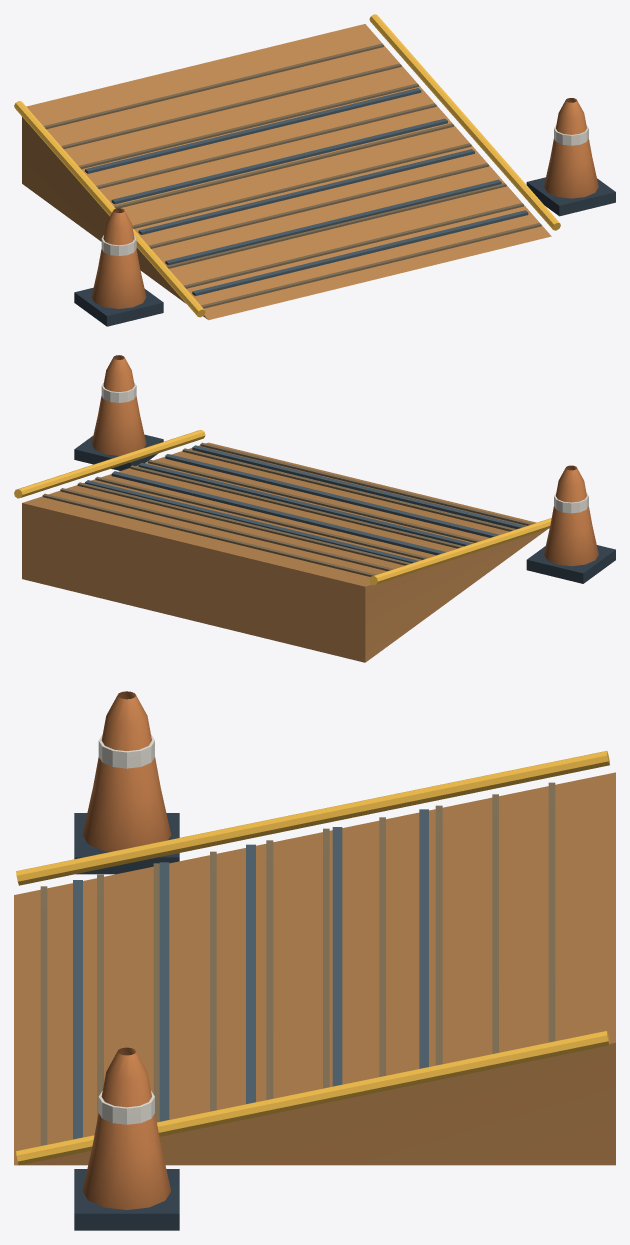
The model's file is access-temporary.glb.
The picture shows the model from 3 angles, top to bottom: view 1: azimuth 30°, elevation 25°; view 2: azimuth 150°, elevation 25°; view 3: azimuth 270°, elevation 25°; orthographic projection. The views are drawn at different scales.
Visible parts, largest first — view 1: ramp, wood board seam, non slip tread, safety cone, wheel edge guard, cone base, cone band; view 2: ramp, wood board seam, non slip tread, safety cone, wheel edge guard, cone base, cone band; view 3: ramp, wood board seam, wheel edge guard, safety cone, non slip tread, cone base, cone band.
Boxes of the visible parts, x1,y1,x2,y2 form: ramp: (22, 24, 551, 320); wood board seam: (43, 43, 541, 308); non slip tread: (85, 88, 528, 296); safety cone: (91, 98, 598, 308); wheel edge guard: (14, 14, 560, 317); cone base: (74, 177, 615, 326); cone band: (101, 125, 588, 255); ramp: (22, 442, 547, 662); wood board seam: (42, 442, 533, 576); non slip tread: (85, 445, 525, 563); safety cone: (91, 355, 598, 566); wheel edge guard: (14, 430, 551, 585); cone base: (74, 434, 615, 583); cone band: (101, 382, 588, 513); ramp: (14, 772, 615, 1165); wood board seam: (40, 782, 555, 1145); wheel edge guard: (16, 751, 609, 1165); safety cone: (82, 691, 170, 1209); non slip tread: (73, 809, 428, 1139); cone base: (74, 813, 179, 1230); cone band: (98, 734, 154, 1124).
Bounding box in the file's own units: 2.52 × 0.46 × 1.6.
